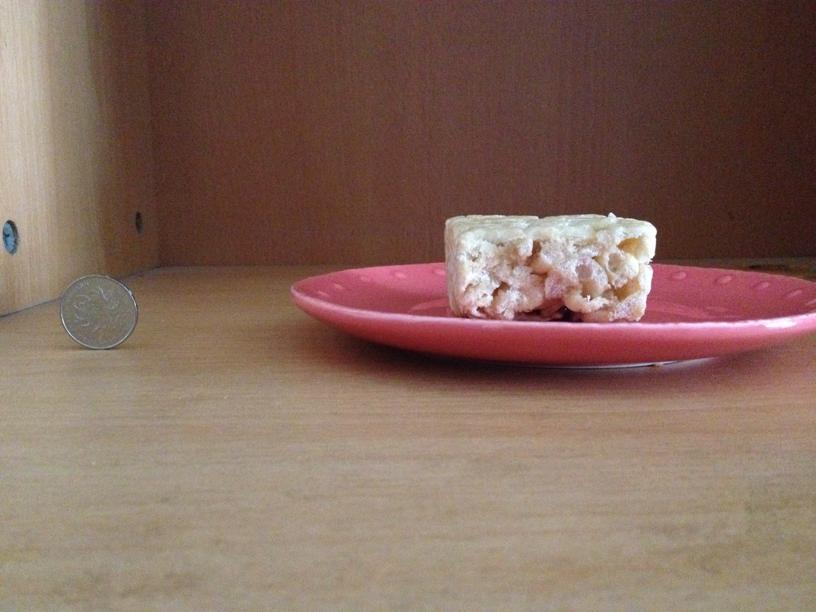coin: (57, 273, 136, 350)
sachima: (440, 205, 656, 325)
